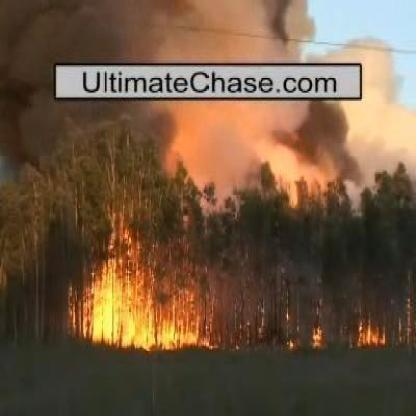-: (49, 9, 295, 56), (191, 107, 371, 161)
foggia-v2-map80-epoch100 - v1 4323: (99, 282, 151, 340)
